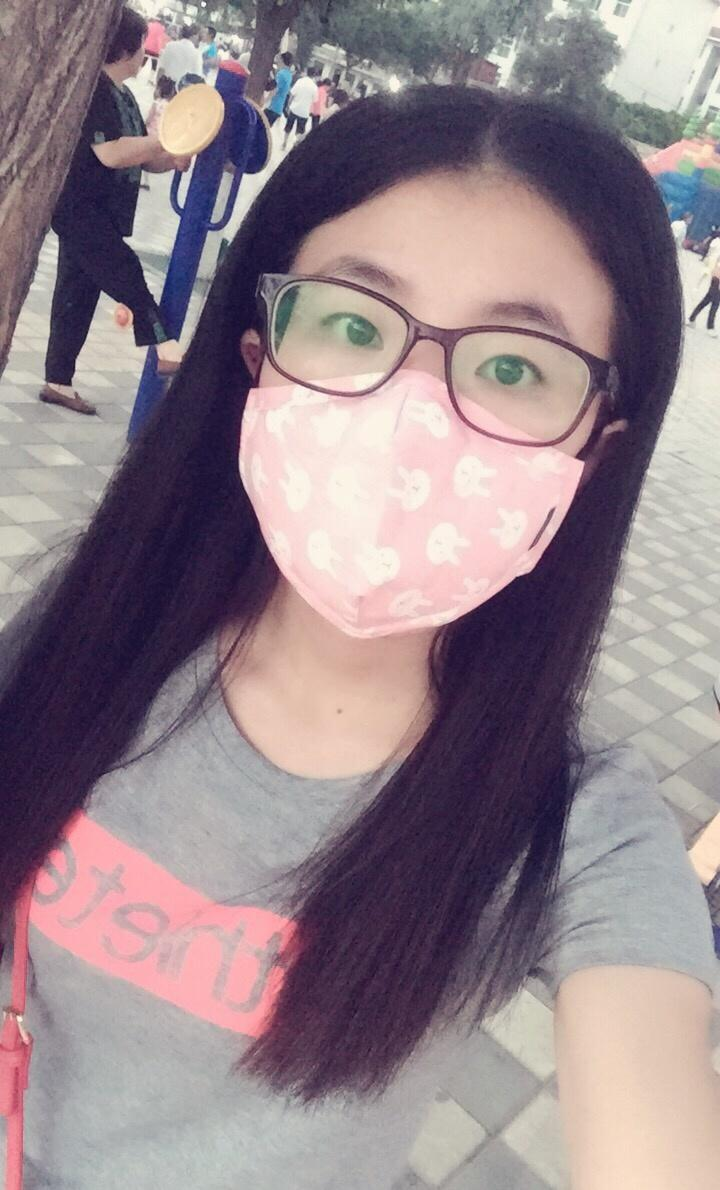OK: (231, 238, 633, 640)
